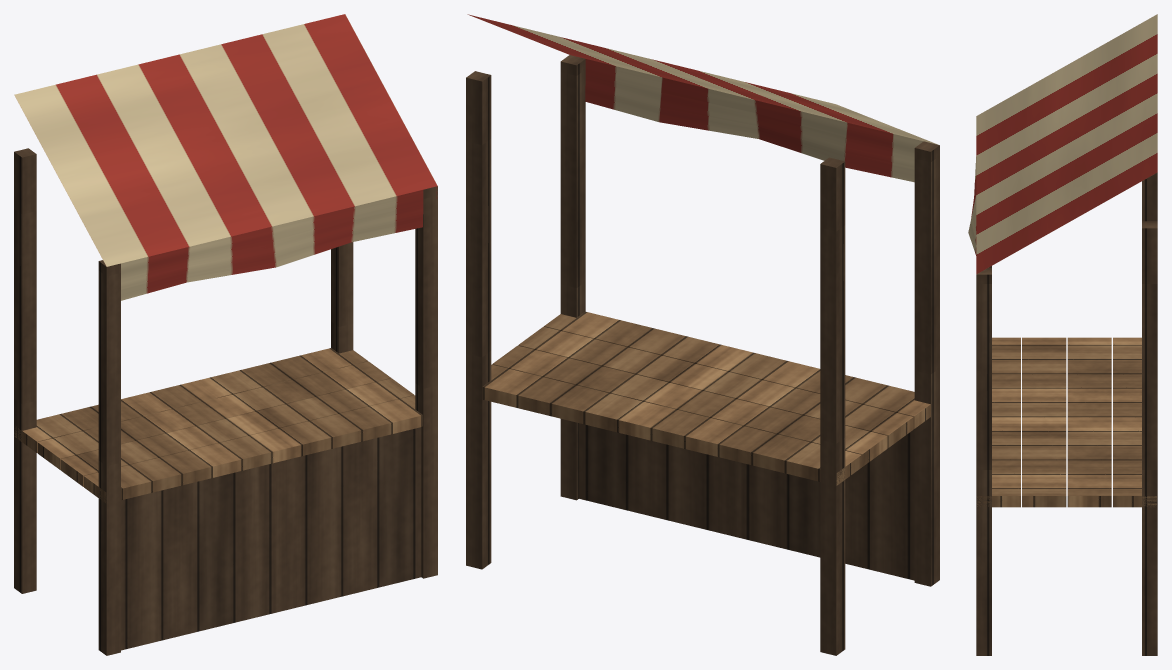
File: Stall_Empty.gltf
The picture shows the model from 3 angles, left to right: view 1: azimuth 30°, elevation 25°; view 2: azimuth 150°, elevation 25°; view 3: azimuth 270°, elevation 25°; orthographic projection. The views are drawn at different scales.
Parts seen in each view (by area): view 1: Stall_Empty; view 2: Stall_Empty; view 3: Stall_Empty.
Boxes of the visible parts, <box> form: Stall_Empty: <box>14,14,437,655</box>; Stall_Empty: <box>466,14,939,655</box>; Stall_Empty: <box>968,14,1157,655</box>.
Size of the model in its own units: 1.84 by 2.62 by 0.93.
Materials: 3 (3 with a texture image).
